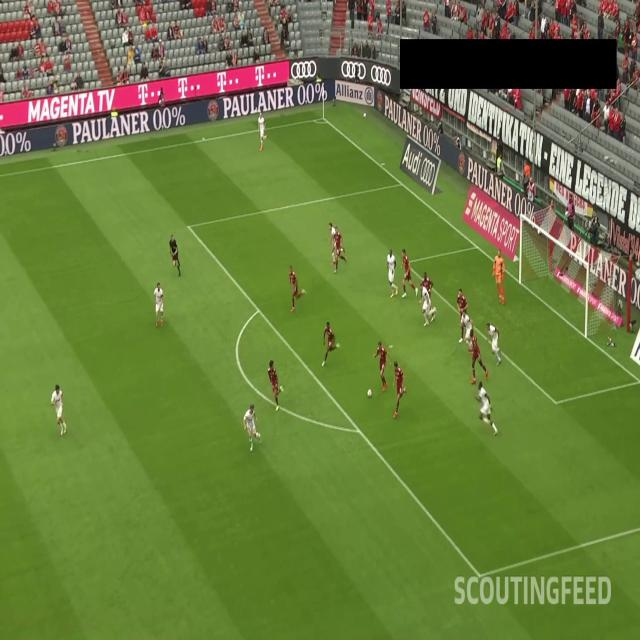ball: (368, 384, 372, 400)
player: (472, 378, 502, 438), (370, 338, 393, 396), (264, 358, 287, 412), (468, 330, 490, 385), (318, 317, 341, 369), (49, 382, 69, 437), (242, 404, 262, 452), (288, 262, 307, 312), (326, 215, 345, 265), (332, 227, 350, 279), (454, 284, 469, 344), (491, 247, 506, 307), (393, 361, 408, 420), (419, 283, 438, 329), (400, 250, 417, 301), (420, 268, 436, 322), (460, 310, 476, 355), (384, 248, 399, 296), (152, 280, 166, 327), (488, 321, 502, 368), (254, 106, 266, 152)
referee: (167, 230, 185, 278)
